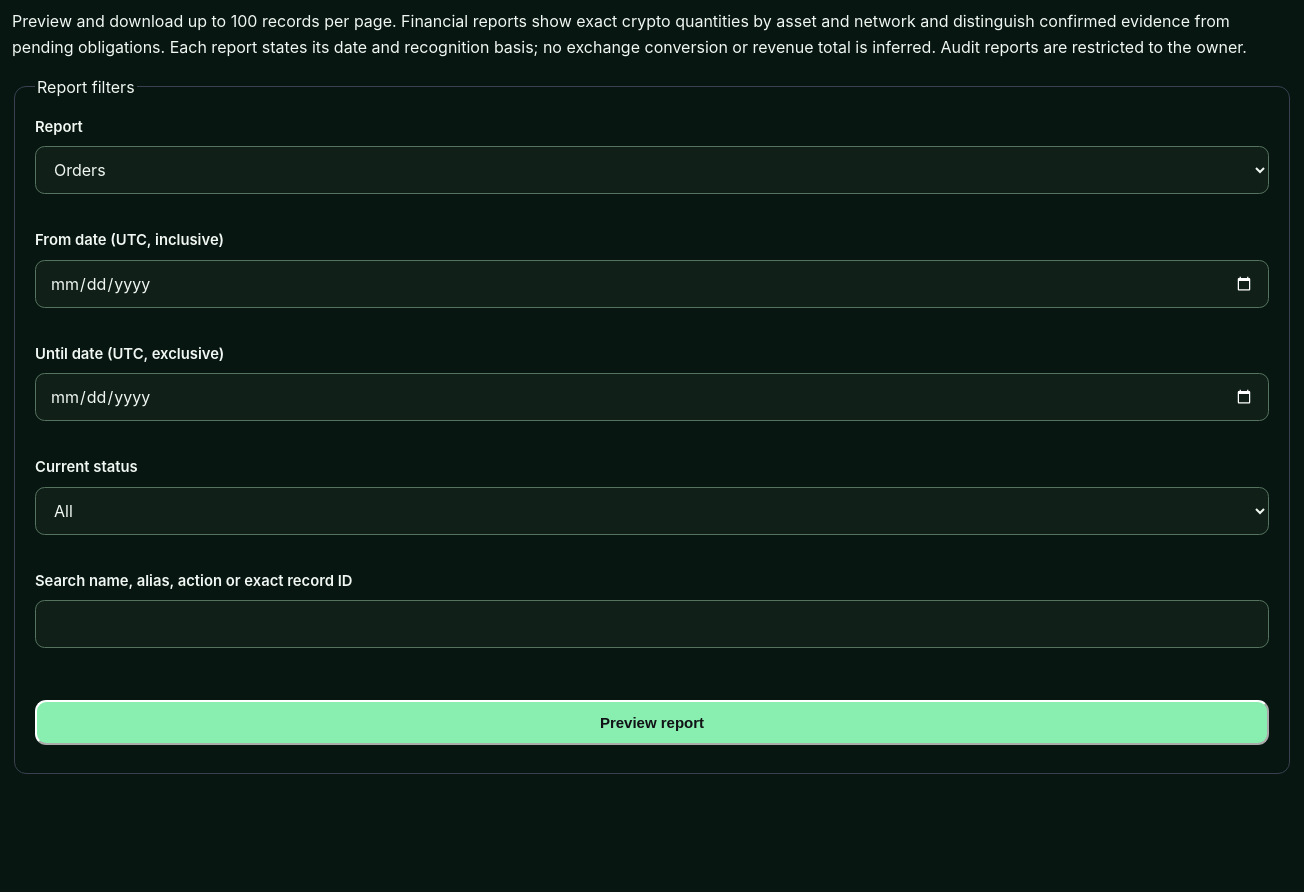
Test case: preserves the exact filters in the bounded next-page request
Type "2026-09-01" into the date field labelled "From date (UTC, inclusive)" at (652, 284), box [35,260,1269,308]
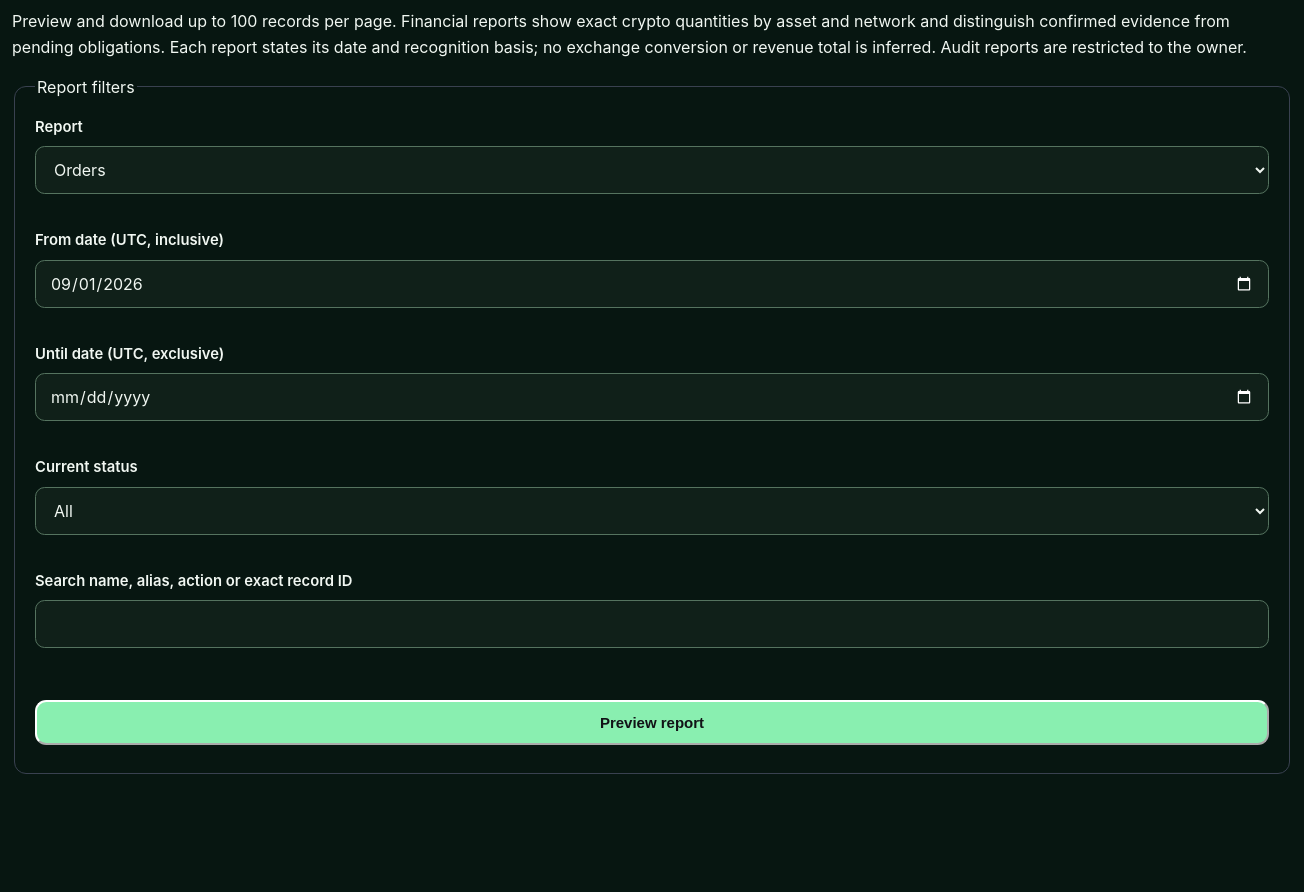
Type "2026-10-01" into the date field labelled "Until date (UTC, exclusive)" at (652, 397), box [35,373,1269,421]
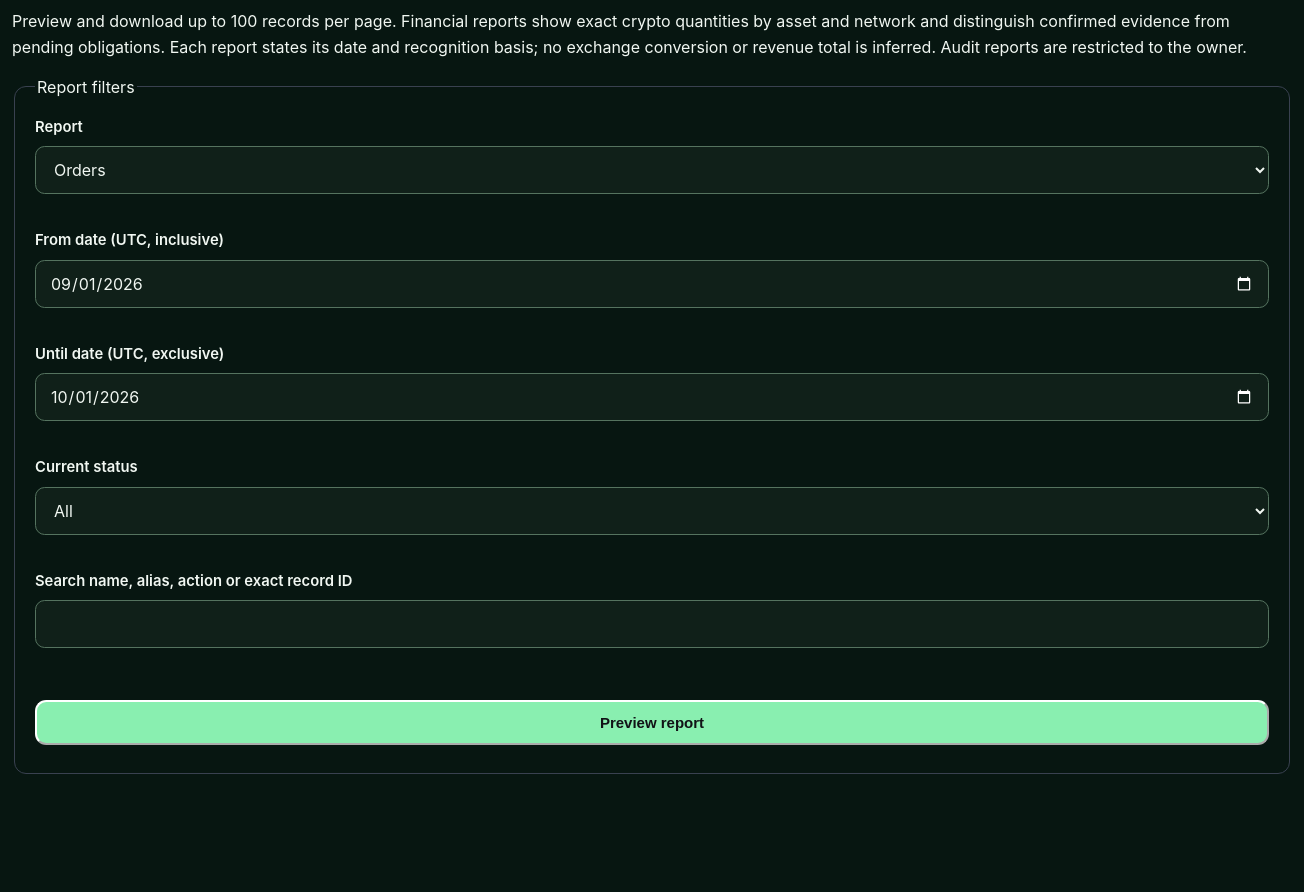
Click the button "Preview report" at (652, 722), box [35,700,1269,745]
(page scrolled)
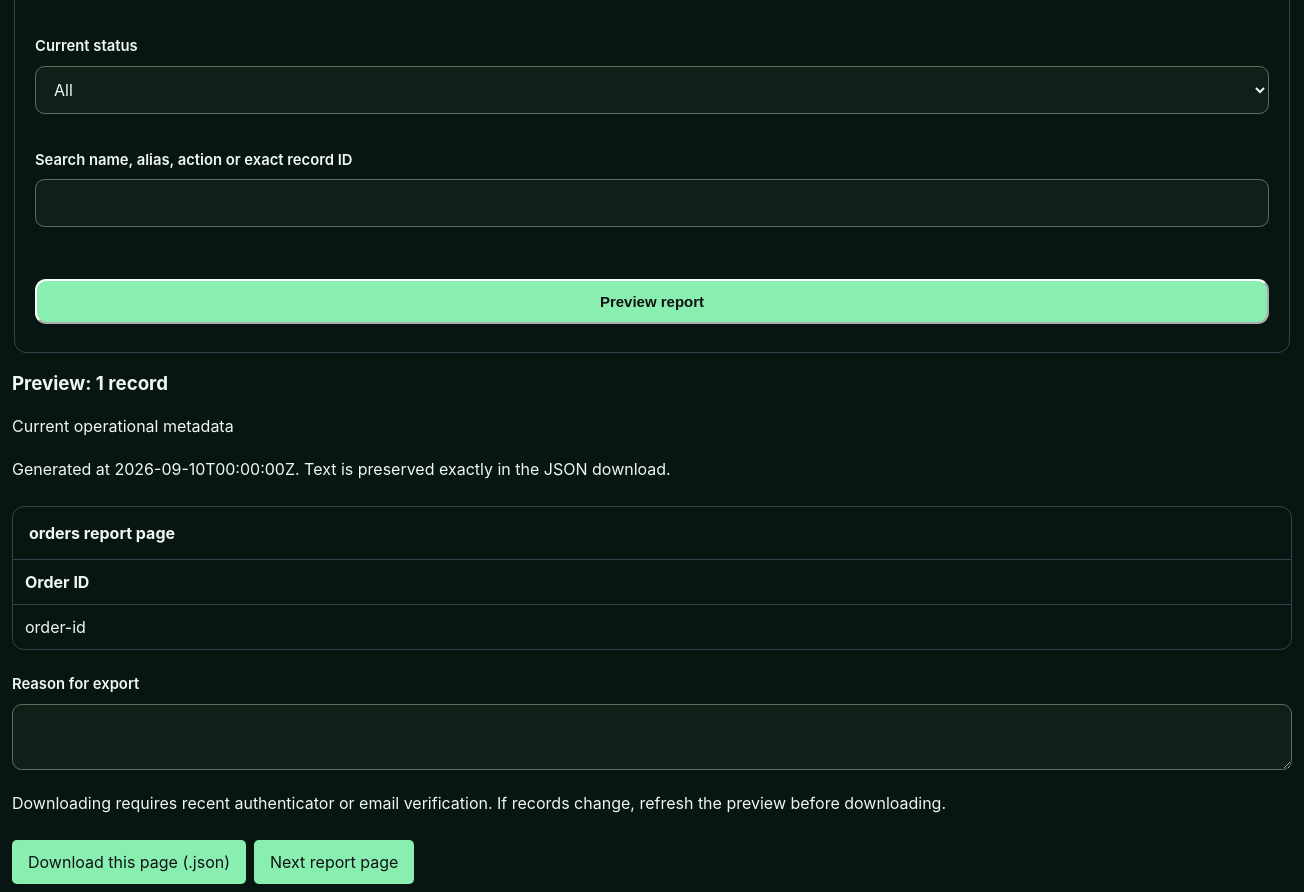
expect the text "order-id" is shown: met, box [13,605,1291,649]
Click the button "Next report page" at (334, 862), box [254,840,414,884]
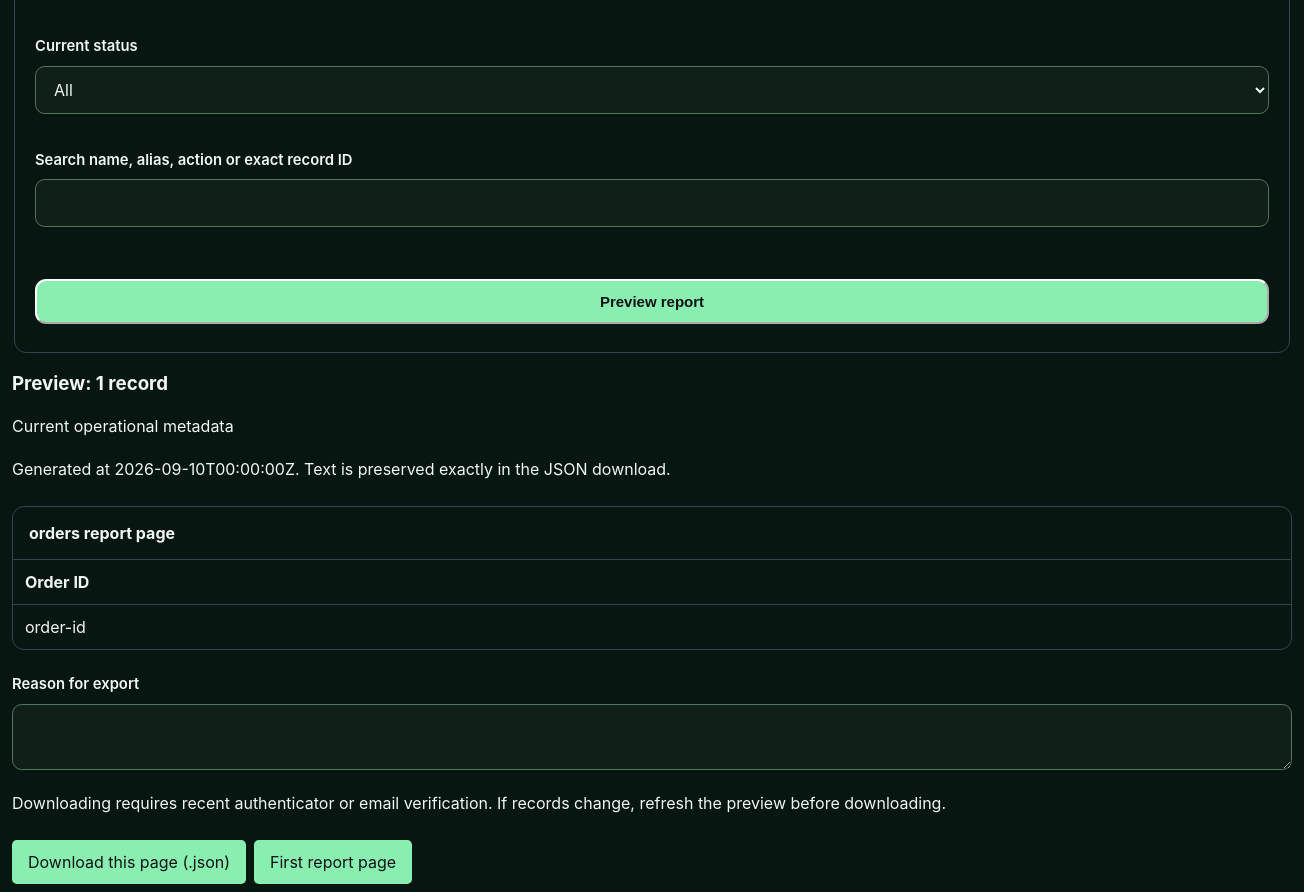
expect the button "First report page" is shown: met, box [254,840,412,884]
